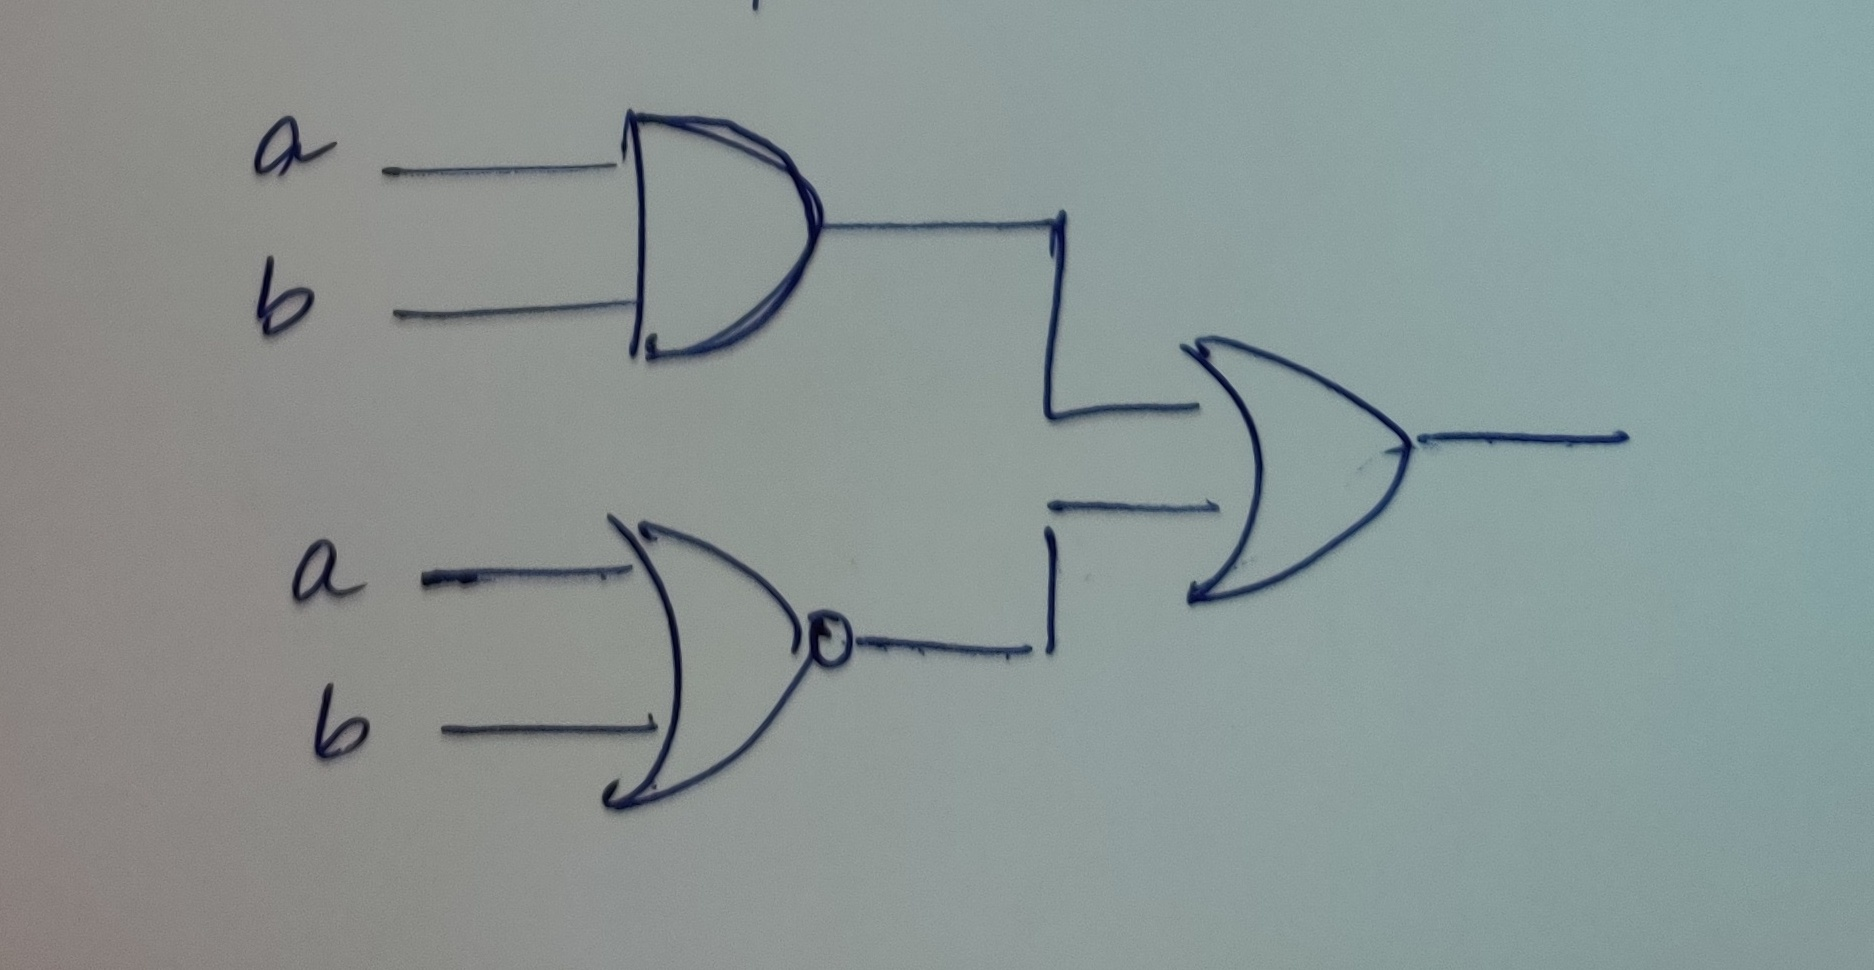and: (567, 66, 855, 396)
nor: (553, 468, 903, 866)
or: (1132, 285, 1491, 676)
